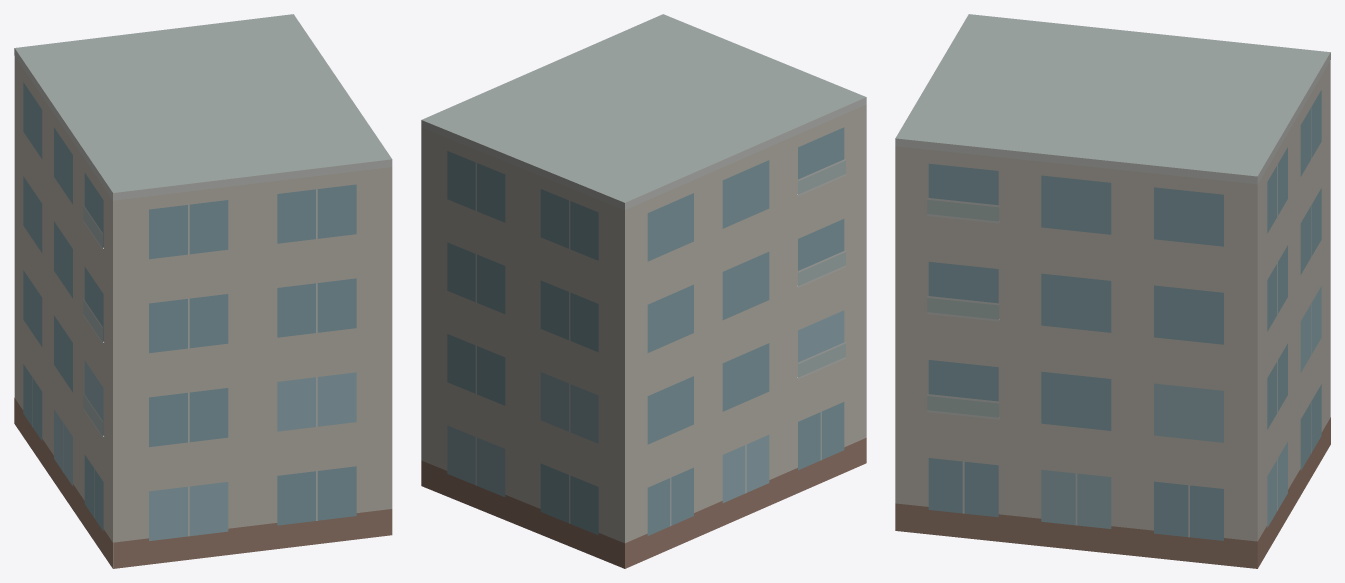
The model's file is residential-8f014cad-6fa9-4966-8717-8c57719d3dda.glb.
3 renders of one model, left to right at view 1: azimuth 30°, elevation 25°; view 2: azimuth 150°, elevation 25°; view 3: azimuth 270°, elevation 25°, orthographic. The views are drawn at different scales.
Visible parts, largest first — view 1: residential-8f014cad-6fa9-4966-8717-8c57719d3dda.tmp; view 2: residential-8f014cad-6fa9-4966-8717-8c57719d3dda.tmp; view 3: residential-8f014cad-6fa9-4966-8717-8c57719d3dda.tmp.
Part boxes in pixels (x1=…): residential-8f014cad-6fa9-4966-8717-8c57719d3dda.tmp: x1=14, y1=14, x2=392, y2=568; residential-8f014cad-6fa9-4966-8717-8c57719d3dda.tmp: x1=421, y1=14, x2=866, y2=568; residential-8f014cad-6fa9-4966-8717-8c57719d3dda.tmp: x1=895, y1=14, x2=1330, y2=568.
Size of the model in its own units: 10.84 by 12.2 by 12.28.
